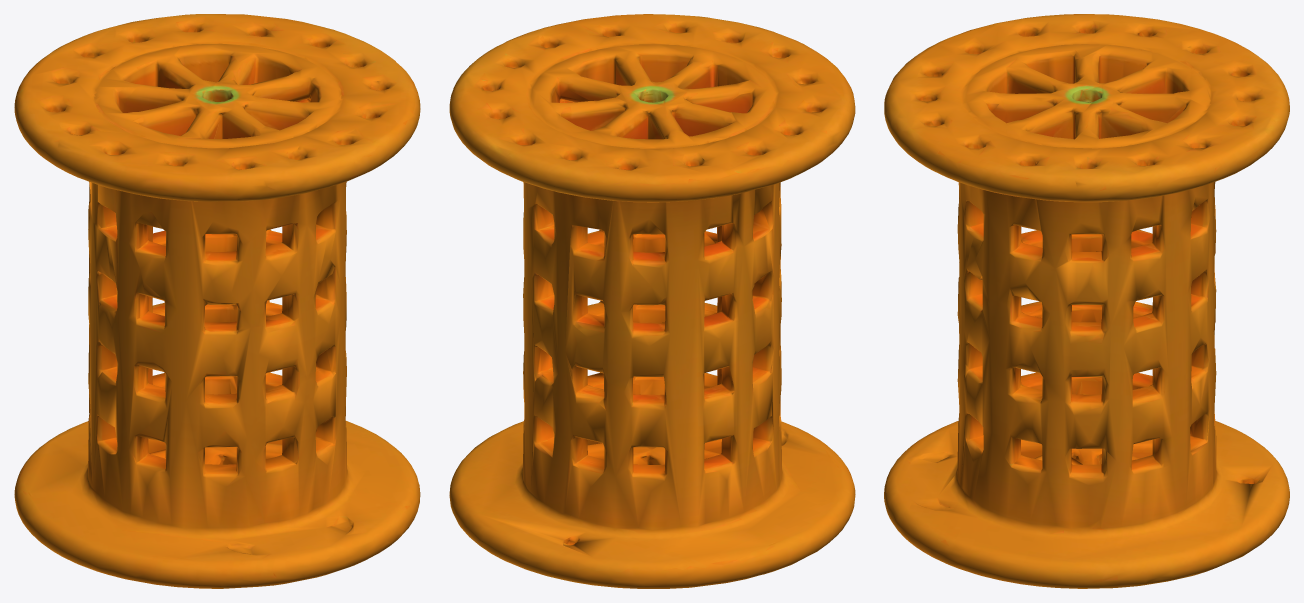
The model's file is bobbin.glb.
The picture shows the model from 3 angles, left to right: view 1: azimuth 30°, elevation 25°; view 2: azimuth 150°, elevation 25°; view 3: azimuth 270°, elevation 25°; orthographic projection.
Parts seen in each view (by area): view 1: Mesh_0; view 2: Mesh_0; view 3: Mesh_0.
Part boxes in pixels (x1,y1,x2,y2): Mesh_0: (14,14,420,588); Mesh_0: (449,14,855,588); Mesh_0: (884,14,1289,588).
Bounding box in the file's own units: 1.7 × 1.91 × 1.7.
1 material, 1 textured.
